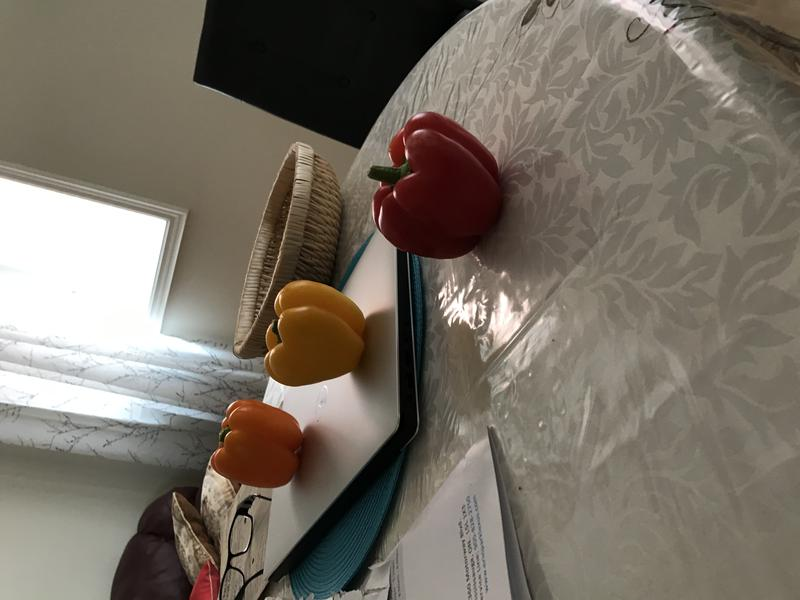orange_pepper: (203, 394, 311, 499)
red_pepper: (362, 105, 514, 272)
yellow_pepper: (261, 277, 372, 392)
